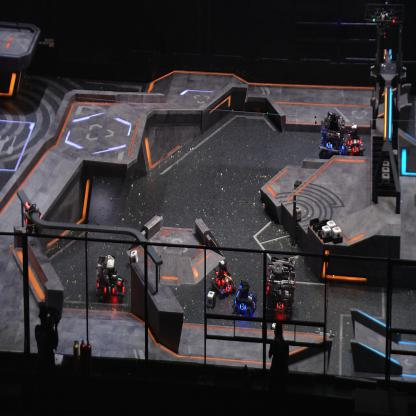car: (264, 256, 297, 320), (96, 254, 126, 303), (317, 111, 347, 156), (211, 258, 237, 298), (233, 279, 258, 318), (343, 122, 365, 157)
